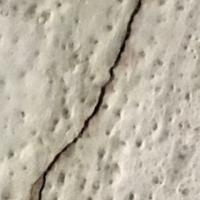crack: (32, 0, 147, 199)
